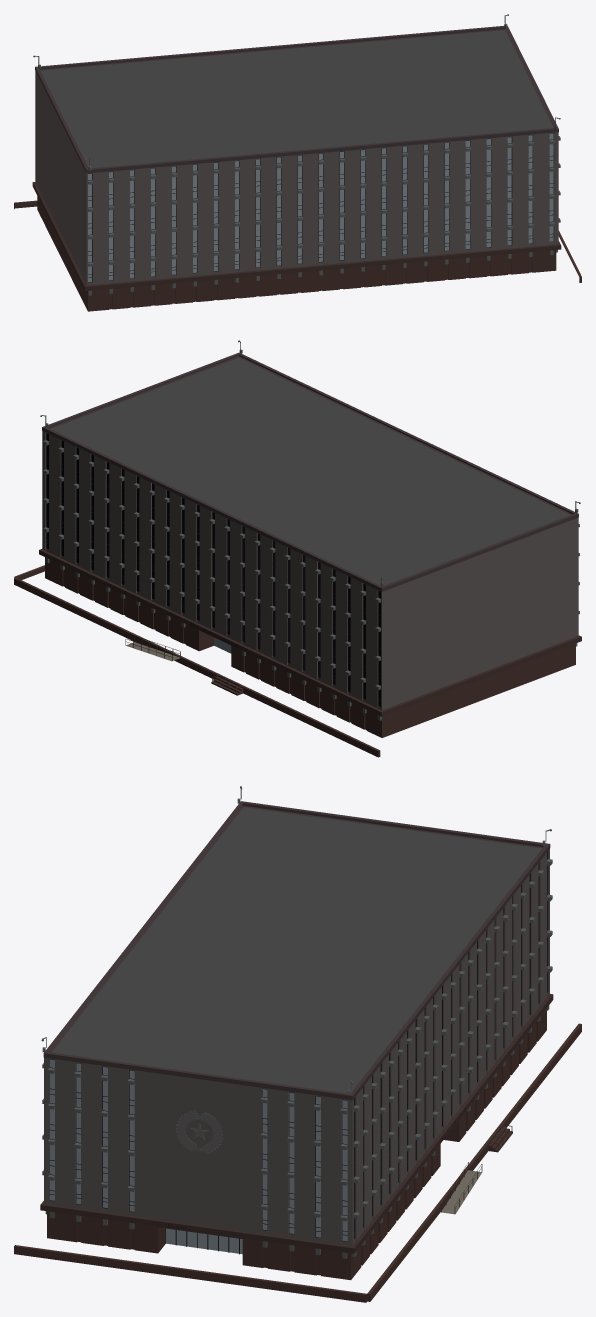
3 views of the same model, one above another, from view 1: azimuth 30°, elevation 25°; view 2: azimuth 150°, elevation 25°; view 3: azimuth 270°, elevation 25° (orthographic). The views are drawn at different scales.
Visible parts, largest first — view 1: opaque, glass; view 2: opaque, glass; view 3: opaque, glass.
Part boxes in pixels (<box>): opaque: <box>14,14,581,311</box>; glass: <box>88,133,553,282</box>; opaque: <box>14,340,581,757</box>; glass: <box>46,433,380,706</box>; opaque: <box>14,786,581,1302</box>; glass: <box>49,851,547,1254</box>.
Size of the model in its own units: 76.75 by 24.05 by 59.49.
2 materials, 2 textured.
